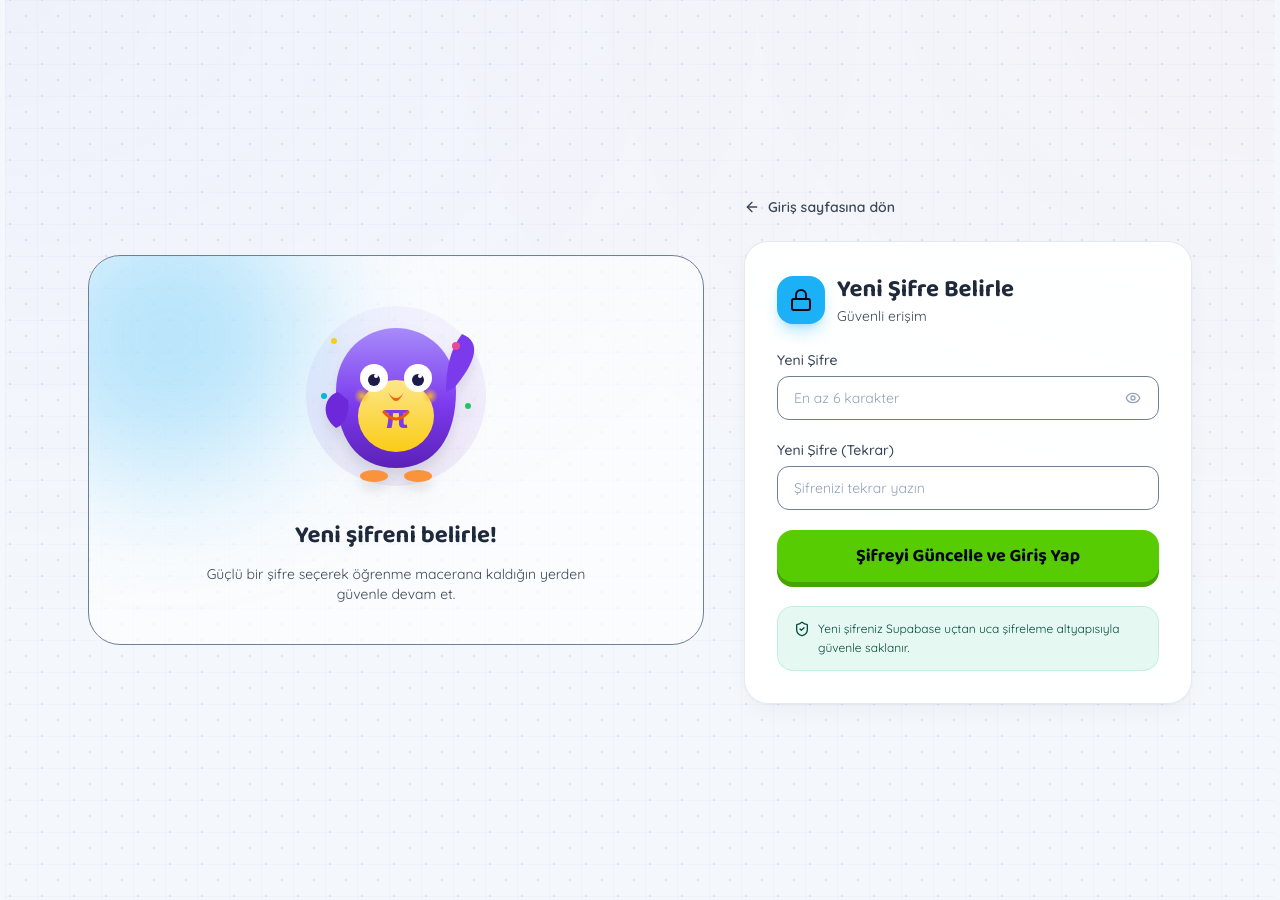
Scenario: ResetPasswordPage Component › shows a Turkish message for Supabase update errors
Type "strongPass123" into the password field labelled "Yeni Şifre" at [968, 398], box [777,376,1159,420]
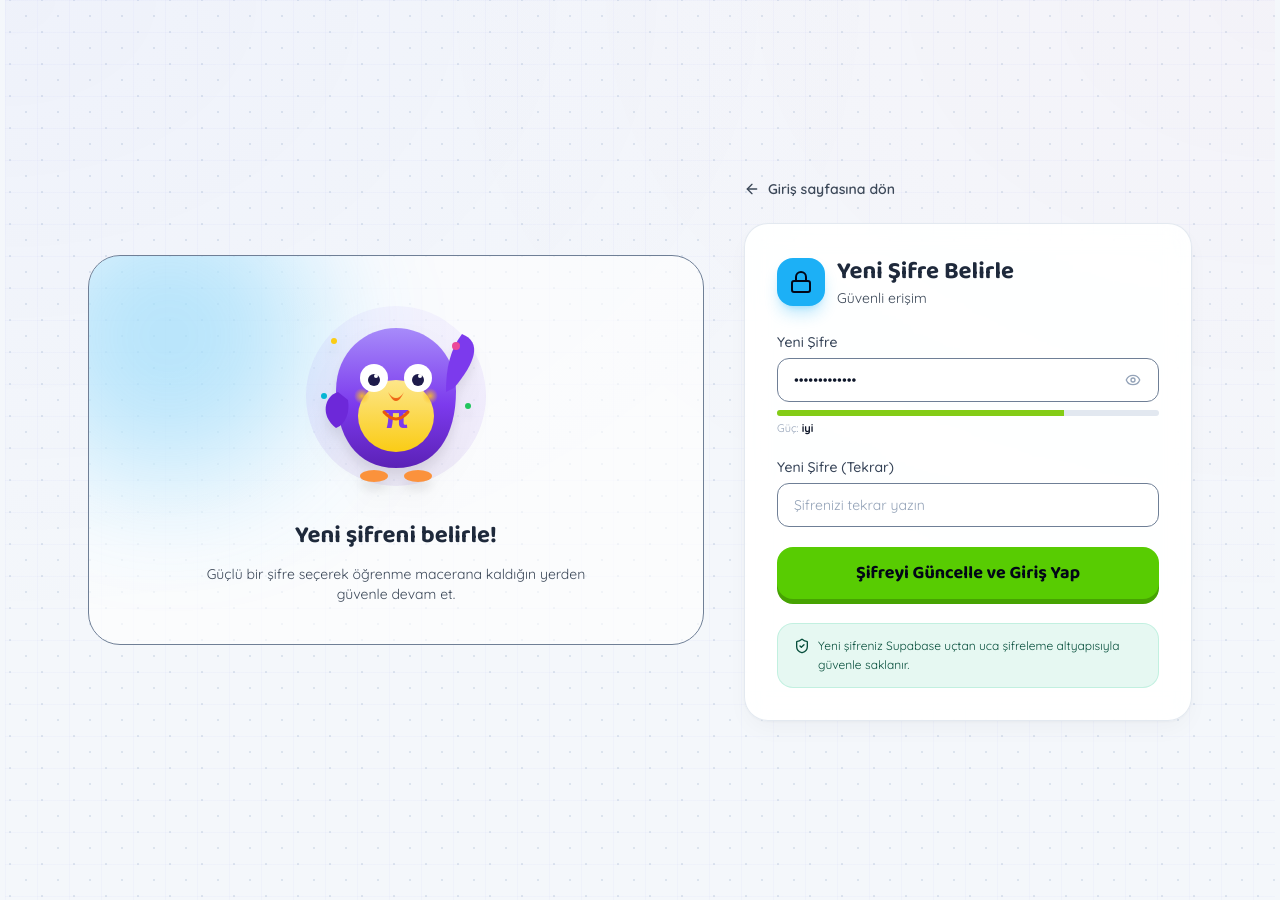
Type "strongPass123" into the password field labelled "Yeni Şifre (Tekrar)" at [968, 505], box [777,483,1159,527]
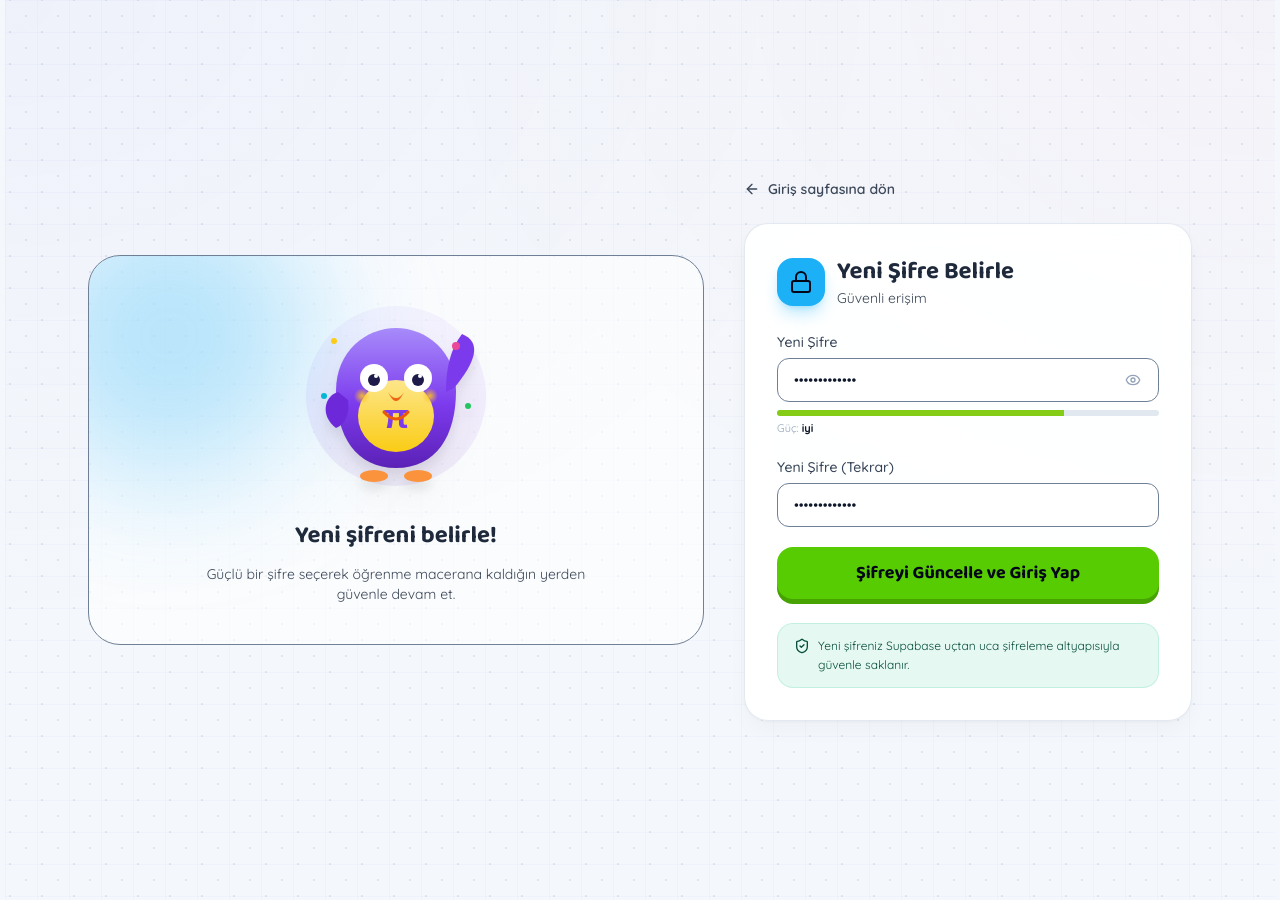
Click the button "Şifreyi Güncelle ve Giriş Yap" at [968, 573], box [777,547,1159,599]
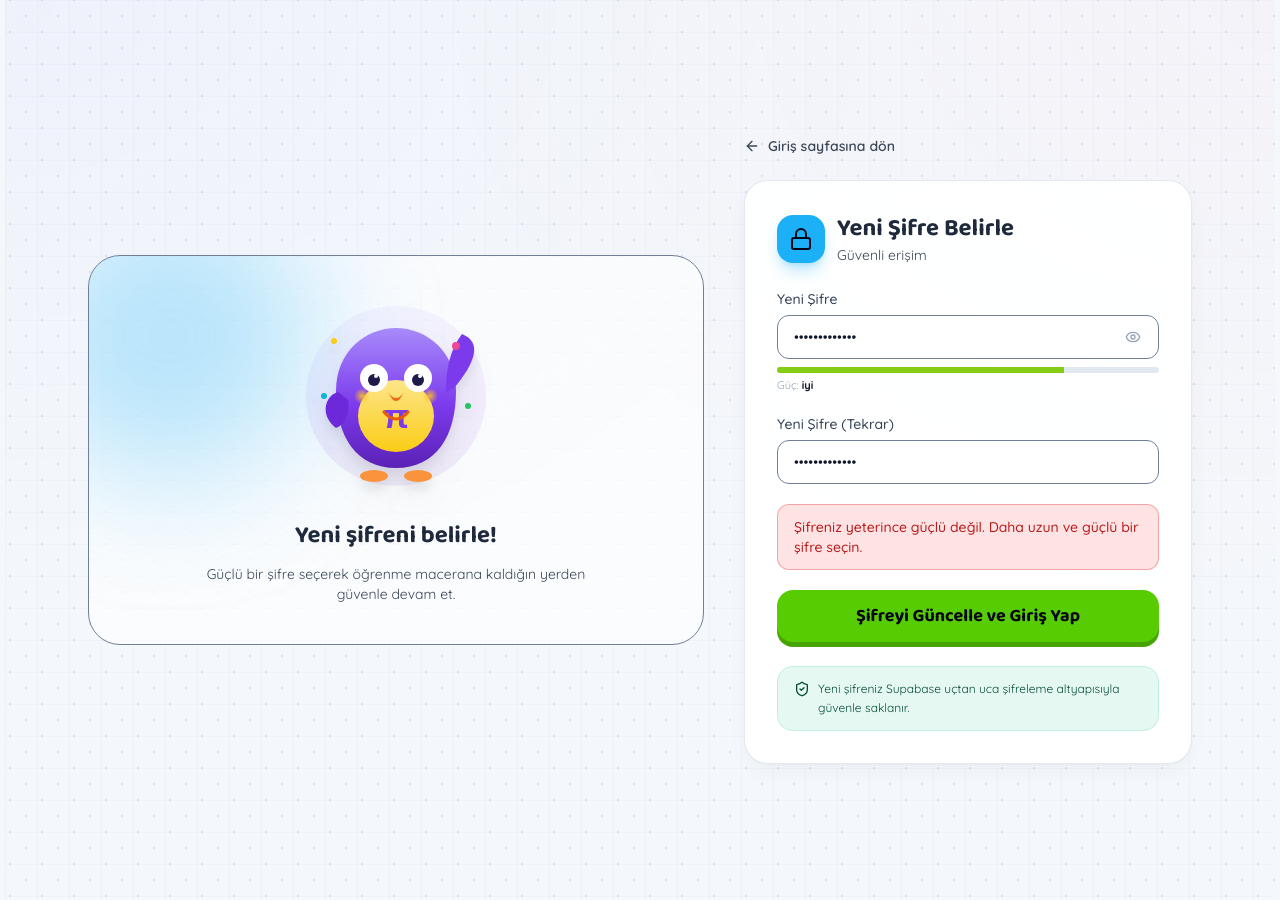
Expected: the message shows "Şifreniz yeterince güçlü değil.", [794,518,1138,556]
